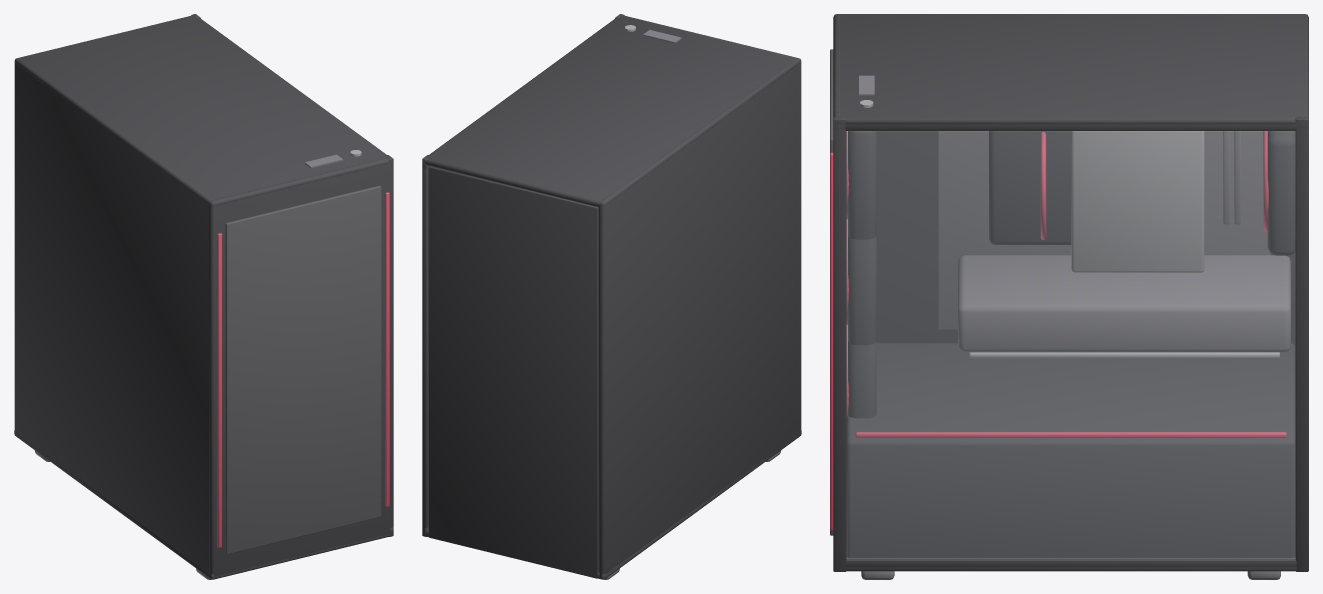
Rendered from case-mid-tower.glb.
3 renders of one model, left to right at view 1: azimuth 30°, elevation 25°; view 2: azimuth 150°, elevation 25°; view 3: azimuth 270°, elevation 25°, orthographic. The views are drawn at different scales.
Parts seen in each view (by area): view 1: case-mid-tower; view 2: case-mid-tower; view 3: case-mid-tower.
Boxes of the visible parts, left/top/right/bottom form: case-mid-tower: left=14, top=14, right=393, bottom=579; case-mid-tower: left=422, top=14, right=801, bottom=579; case-mid-tower: left=830, top=14, right=1308, bottom=579.
Bounding box in the file's own units: 0.227 × 0.4665 × 0.431.
